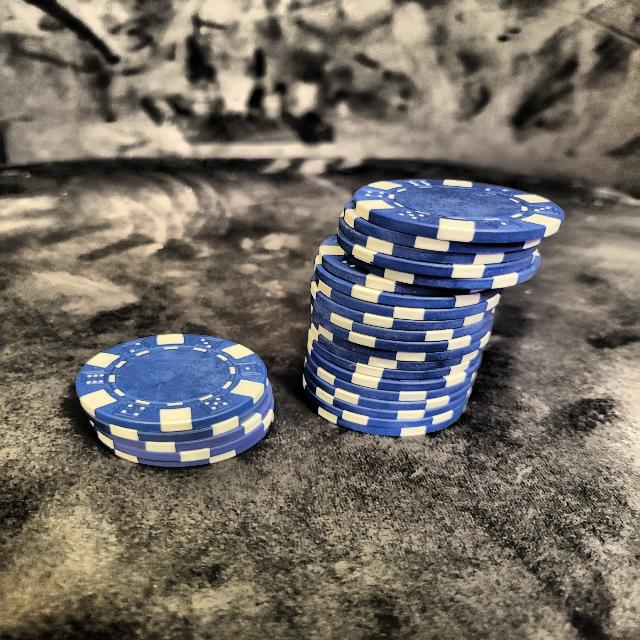Chip: (288, 164, 569, 436), (75, 314, 278, 476)
